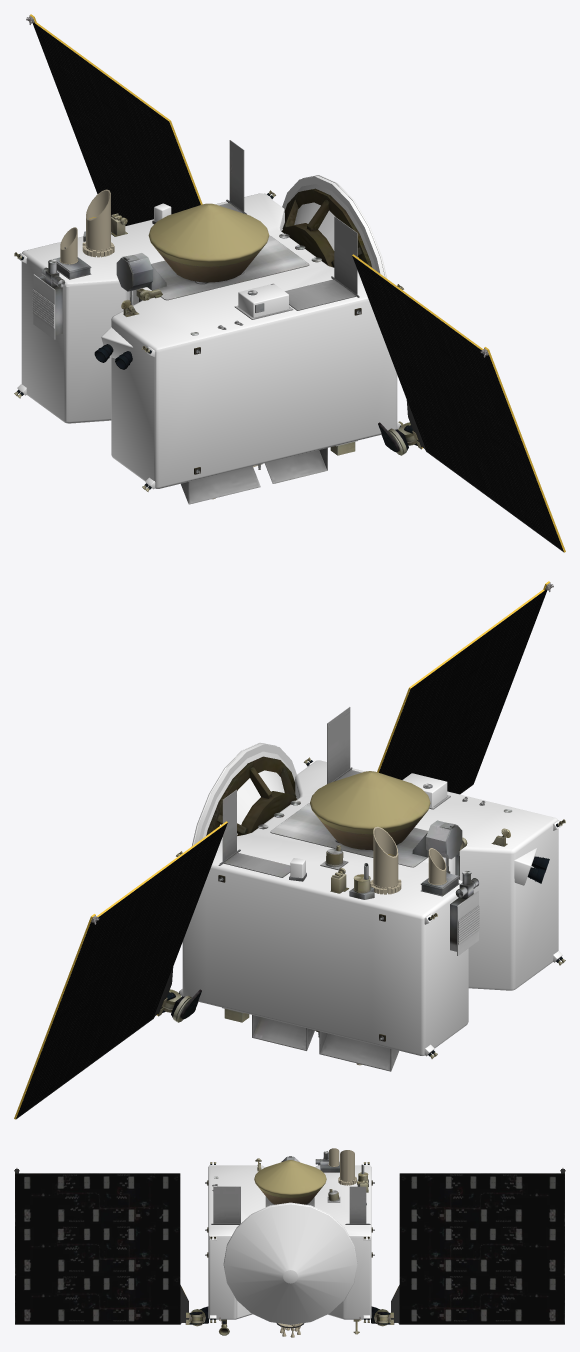
Rendered from osiris-rex.glb.
The picture shows the model from 3 angles, top to bottom: view 1: azimuth 30°, elevation 25°; view 2: azimuth 150°, elevation 25°; view 3: azimuth 270°, elevation 25°; orthographic projection. The views are drawn at different scales.
Visible parts, largest first — view 1: BUS, Bus_plate_mounting, Bronze_Dome, Array_Left; view 2: BUS, Bus_plate_mounting, Bronze_Dome, Array_Left; view 3: Bus_plate_mounting, BUS, Bronze_Dome.
Boxes of the visible parts, x1,y1,x2,y2 form: BUS: (17,175,400,489); Bus_plate_mounting: (14,15,563,552); Bronze_Dome: (59,189,258,499); Array_Left: (30,14,565,552); BUS: (179,742,562,1056); Bus_plate_mounting: (16,582,565,1119); Bronze_Dome: (315,826,446,1065); Array_Left: (14,581,549,1119); Bus_plate_mounting: (15,1151,564,1335); BUS: (208,1165,371,1324); Bronze_Dome: (276,1148,356,1337).
Size of the model in its own units: 2.47 by 2.23 by 6.22.
7 materials, 1 textured.
